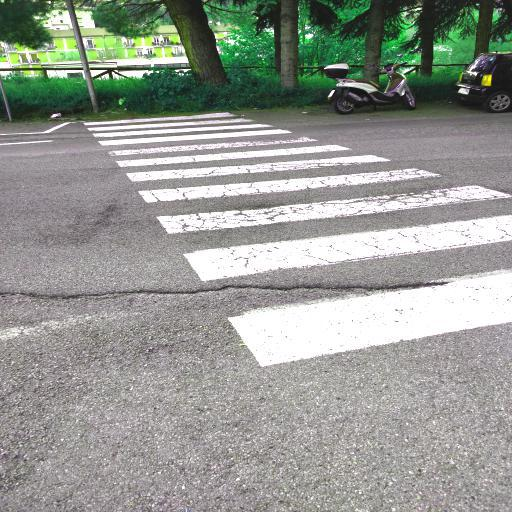crosswalk: (106, 164, 511, 238), (86, 116, 281, 142)
